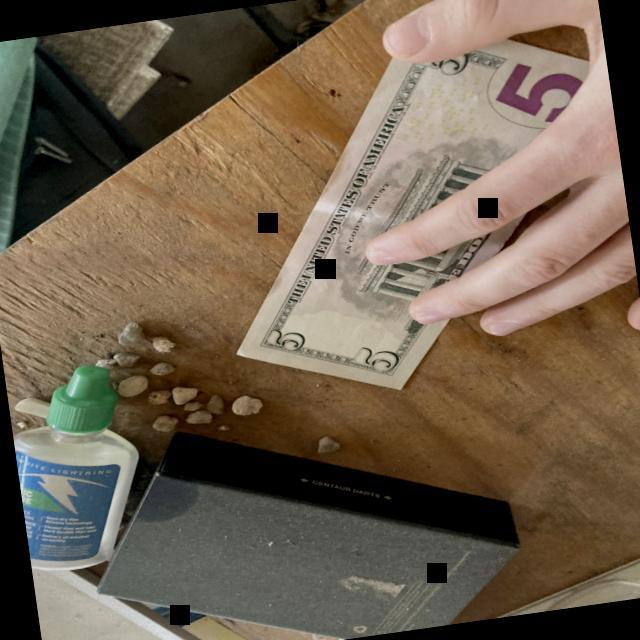five: (235, 17, 610, 389)
